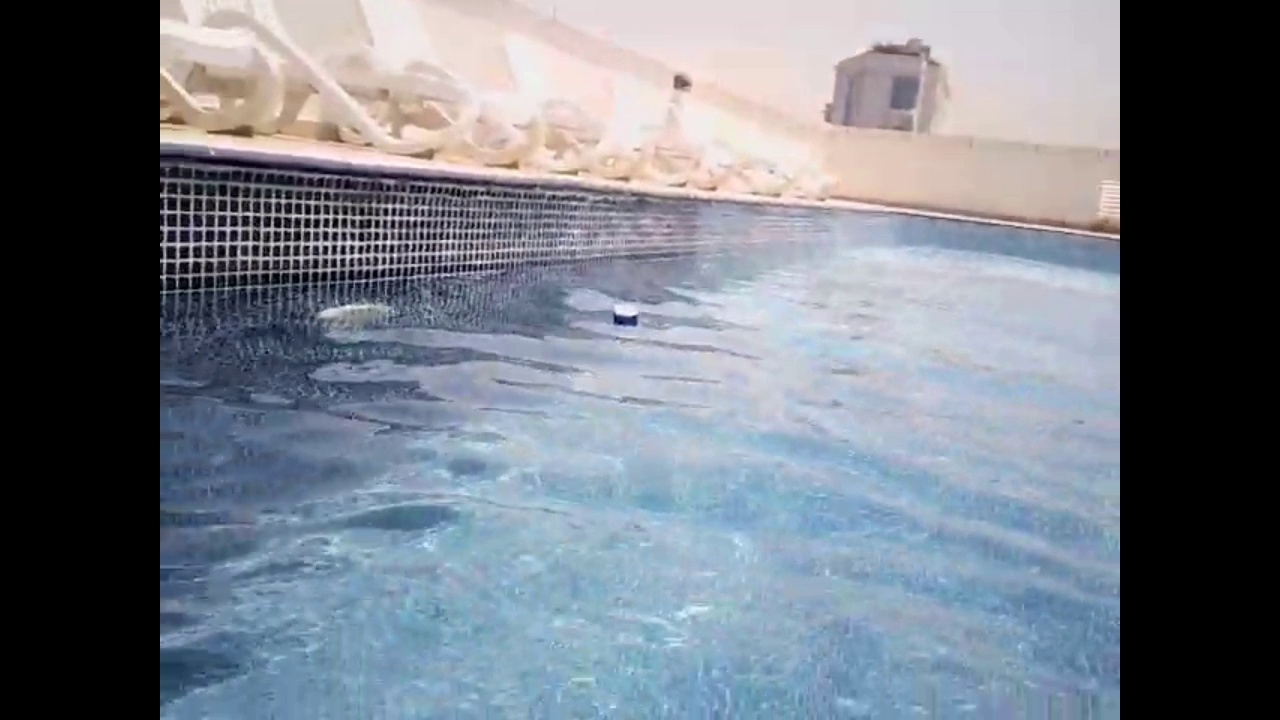debris: (610, 296, 642, 333)
